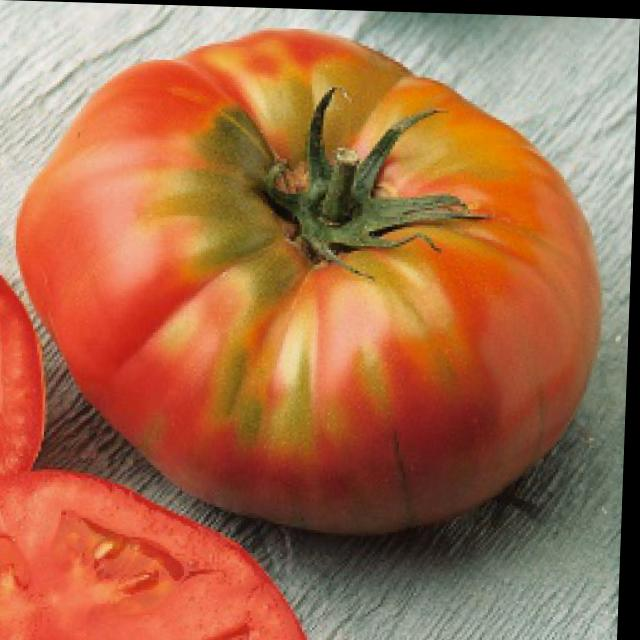tomato: (10, 28, 606, 539)
